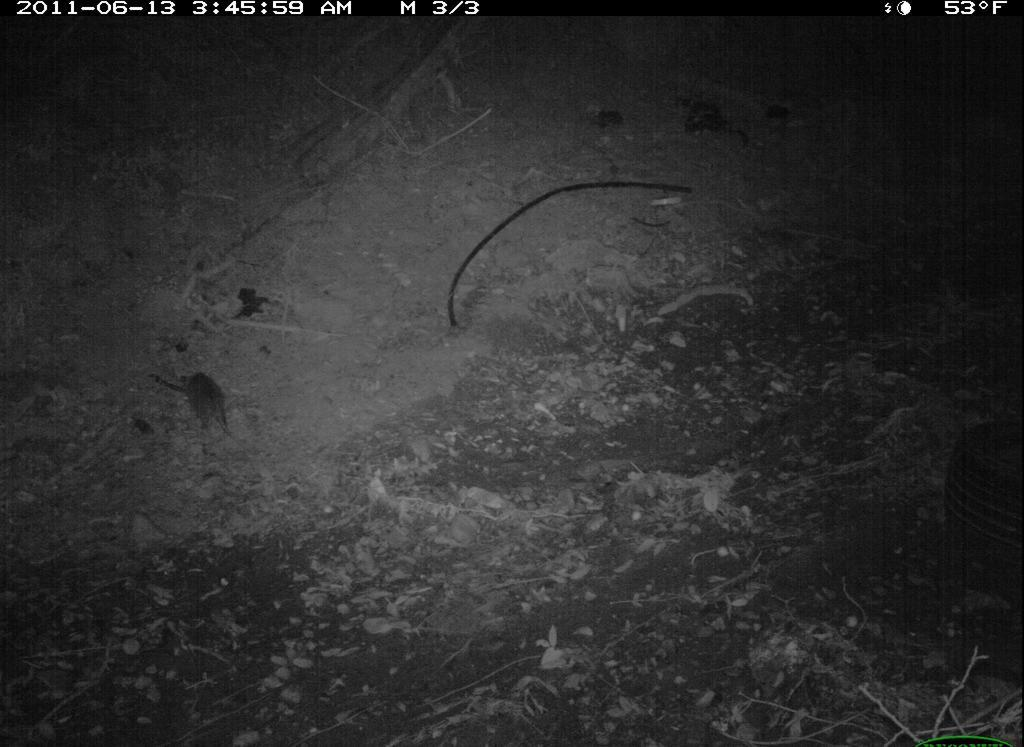opossum: (143, 354, 273, 459)
